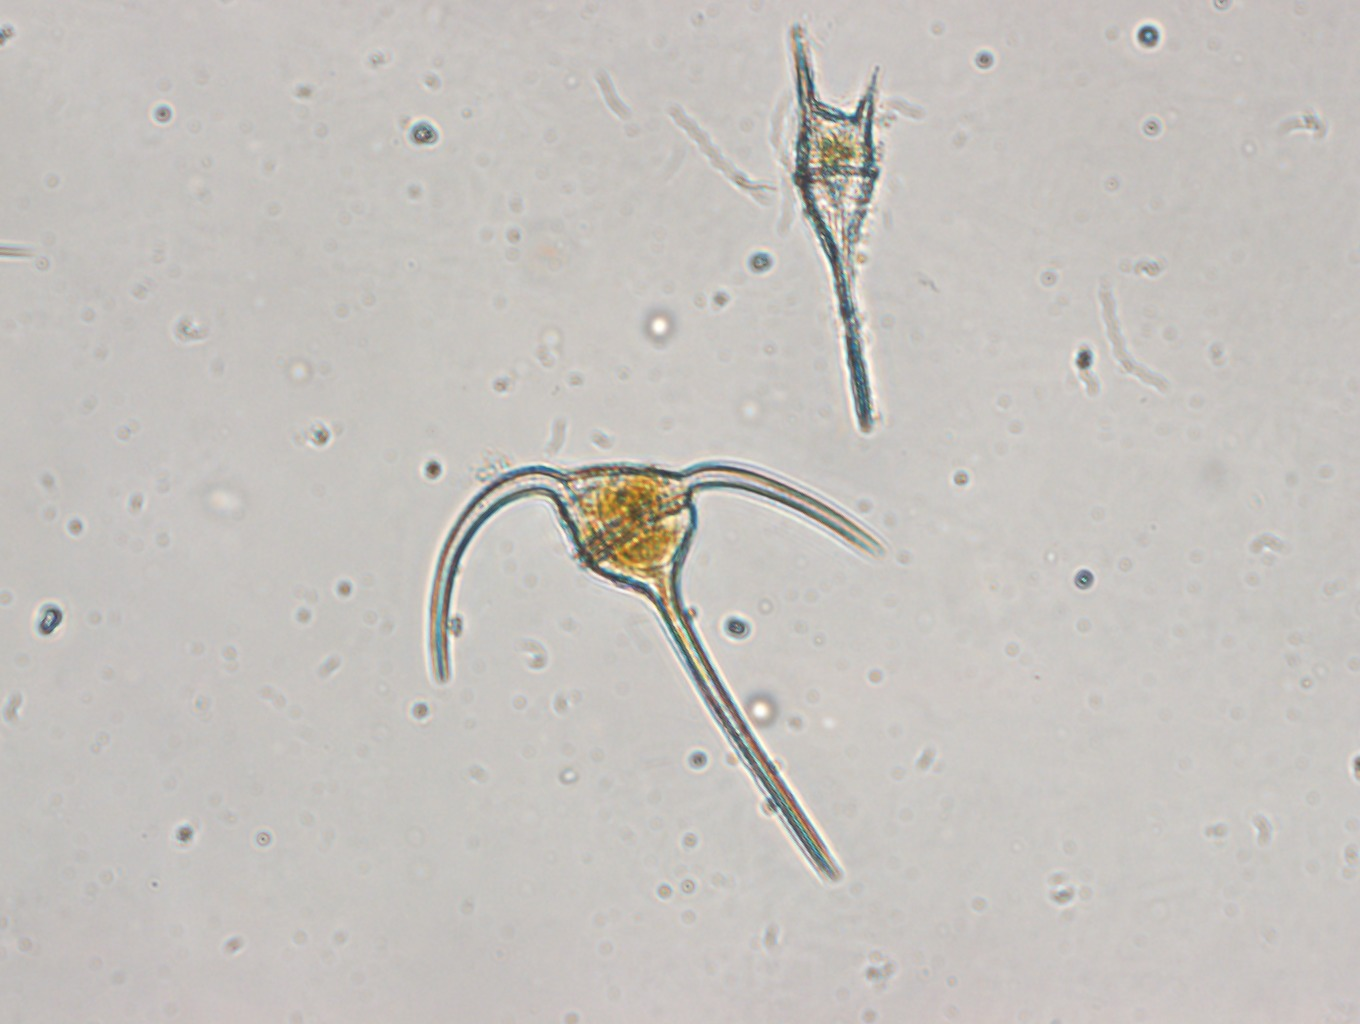ceratium furca: (779, 25, 899, 439)
ceratium trichoceros: (420, 453, 889, 885)
